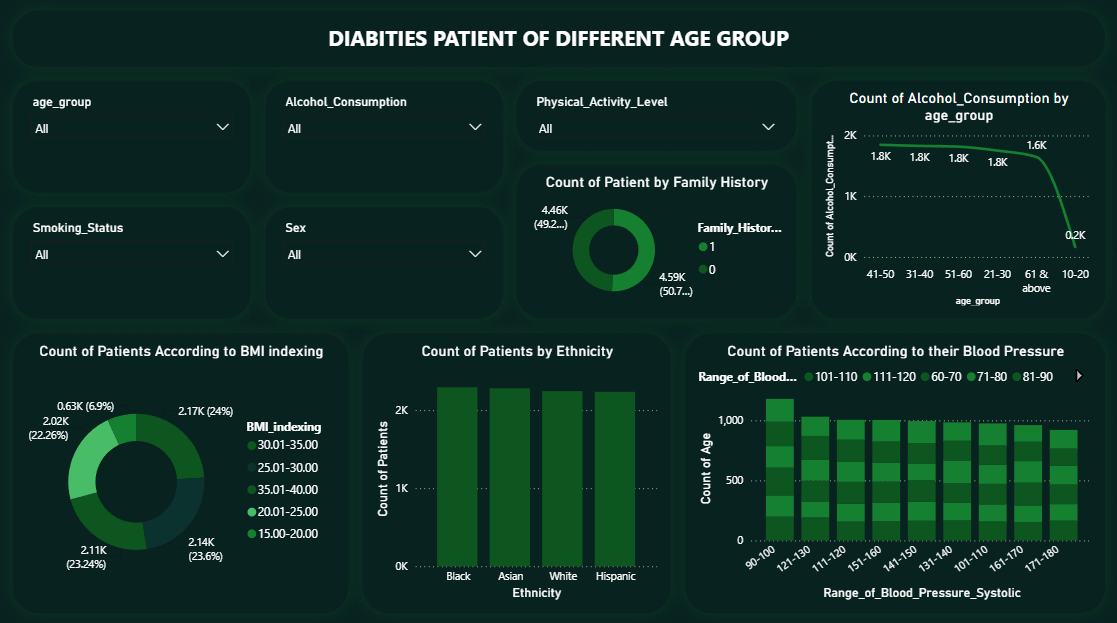

The page's visual inventory and layout, read from the dashboard file:
{"tool":"powerbi","page":{"name":"Page 1","canvas":[1280,720],"ordinal":0},"visuals":[{"type":"donutChart","title":"Count of Patients According to BMI indexing","fields":{"Y":["CountNonNull(diabetes_dataset.Age)"],"Category":["diabetes_dataset.BMI_indexing"]},"box":[16,384,384,320],"z":0},{"type":"slicer","fields":{"Values":["diabetes_dataset.age_group"]},"box":[16,96,272,128],"z":1000},{"type":"slicer","fields":{"Values":["diabetes_dataset.Alcohol_Consumption"]},"box":[304,96,272,128],"z":2000},{"type":"slicer","fields":{"Values":["diabetes_dataset.Smoking_Status"]},"box":[16,240,272,128],"z":3000},{"type":"slicer","fields":{"Values":["diabetes_dataset.Sex"]},"box":[304,240,272,128],"z":4000},{"type":"textbox","box":[16,16,1248,64],"z":5000},{"type":"lineChart","fields":{"Category":["diabetes_dataset.age_group"],"Y":["CountNonNull(diabetes_dataset.Alcohol_Consumption)"]},"box":[928,96,336,272],"z":6000},{"type":"donutChart","title":"Count of Patient by Family History","fields":{"Category":["diabetes_dataset.Family_History_of_Diabetes"],"Y":["CountNonNull(diabetes_dataset.Age)"]},"box":[592,192,320,176],"z":7000},{"type":"clusteredColumnChart","fields":{"Category":["diabetes_dataset.Ethnicity"],"Y":["CountNonNull(diabetes_dataset.Age)"]},"box":[416,384,352,320],"z":8000},{"type":"slicer","fields":{"Values":["diabetes_dataset.Physical_Activity_Level"]},"box":[592,96,320,80],"z":9000},{"type":"columnChart","title":"Count of Patients According to their Blood Pressure","fields":{"Y":["CountNonNull(diabetes_dataset.Age)"],"Category":["diabetes_dataset.Range_of_Blood_Pressure_Systolic"],"Series":["diabetes_dataset.Range_of_Blood_Pressure_Diastolic"]},"box":[784,384,480,320],"z":10000}]}

Visuals, with their boxes in screenshot pixels (x1, y1, x2, y2), scaled from the page's 1280x720 canvas onto the 1117x623 screenshot:
"Count of Patients According to BMI indexing" donutChart: 14 332 349 609
slicer - diabetes_dataset.age_group: 14 83 251 194
slicer - diabetes_dataset.Alcohol_Consumption: 265 83 503 194
slicer - diabetes_dataset.Smoking_Status: 14 208 251 318
slicer - diabetes_dataset.Sex: 265 208 503 318
textbox: 14 14 1103 69
lineChart - diabetes_dataset.age_group x CountNonNull(diabetes_dataset.Alcohol_Consumption): 810 83 1103 318
"Count of Patient by Family History" donutChart: 517 166 796 318
clusteredColumnChart - diabetes_dataset.Ethnicity x CountNonNull(diabetes_dataset.Age): 363 332 670 609
slicer - diabetes_dataset.Physical_Activity_Level: 517 83 796 152
"Count of Patients According to their Blood Pressure" columnChart: 684 332 1103 609
